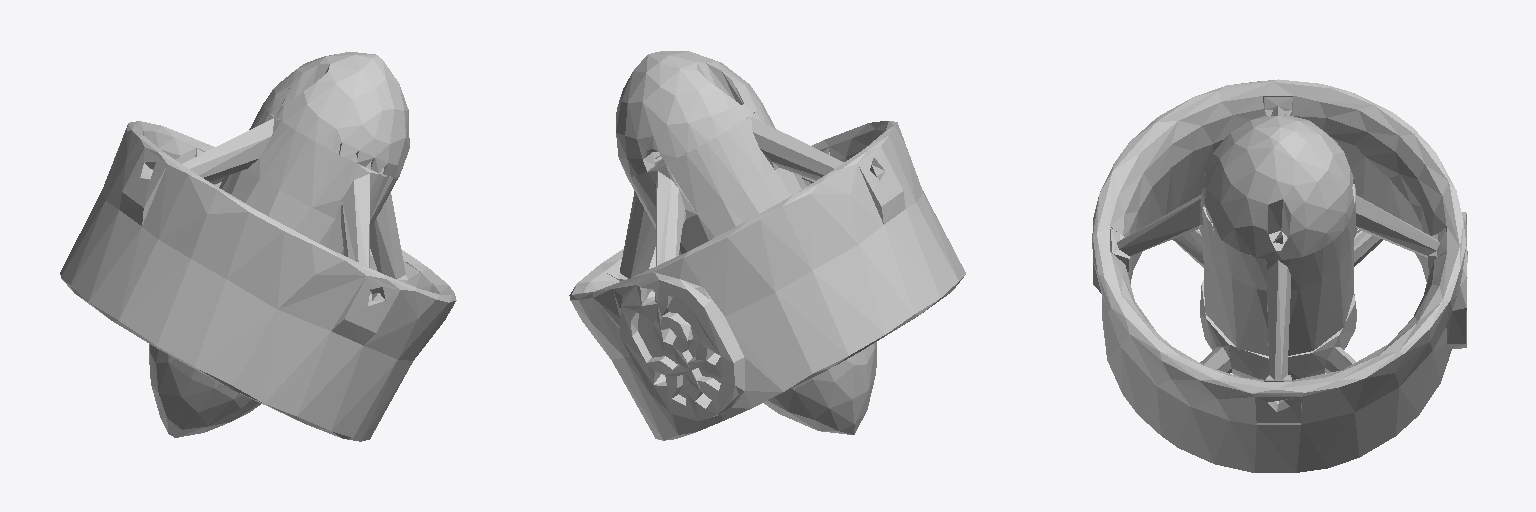
The model's file is duct_left_rear.obj.
3 renders of one model, left to right at view 1: azimuth 30°, elevation 25°; view 2: azimuth 150°, elevation 25°; view 3: azimuth 270°, elevation 25°, orthographic.
Visible parts, largest first — view 1: duct_left_rear; view 2: duct_left_rear; view 3: duct_left_rear.
Boxes of the visible parts, <box> form: duct_left_rear: <box>60,52,456,441</box>; duct_left_rear: <box>569,51,965,440</box>; duct_left_rear: <box>1092,79,1467,472</box>.
Bounding box in the file's own units: 0.1019 × 0.1012 × 0.0973.